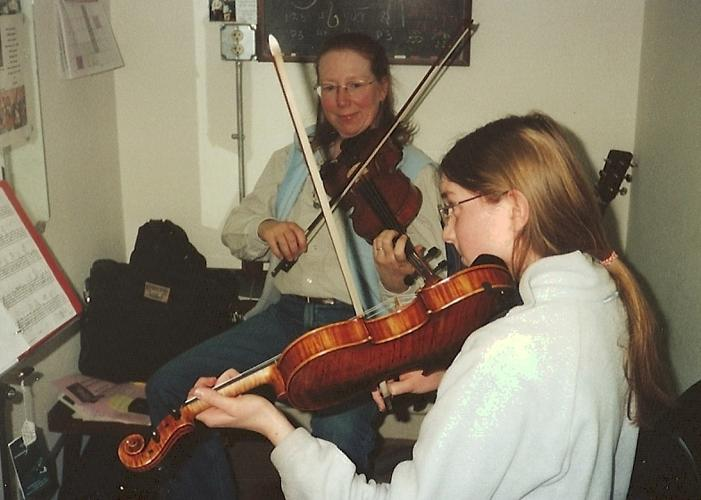person: (184, 113, 647, 500)
